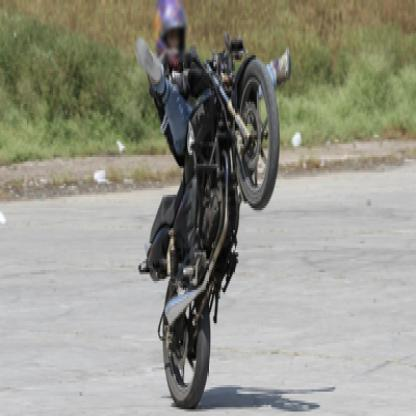Helmet: (144, 1, 195, 74)
